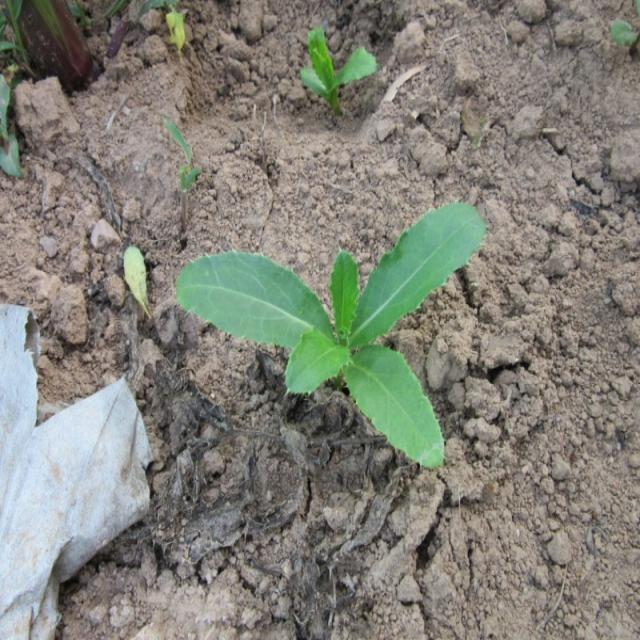cs: (174, 198, 486, 470)
